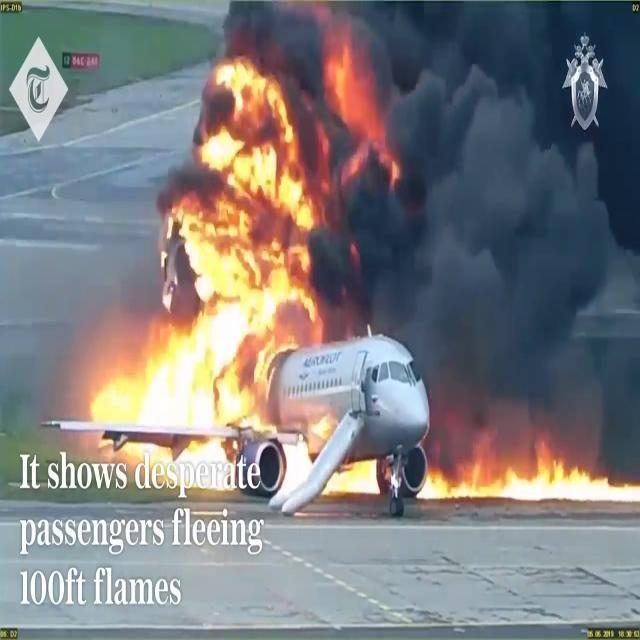Fire: (90, 42, 356, 434), (424, 437, 640, 507)
Smoke: (67, 2, 635, 416)
